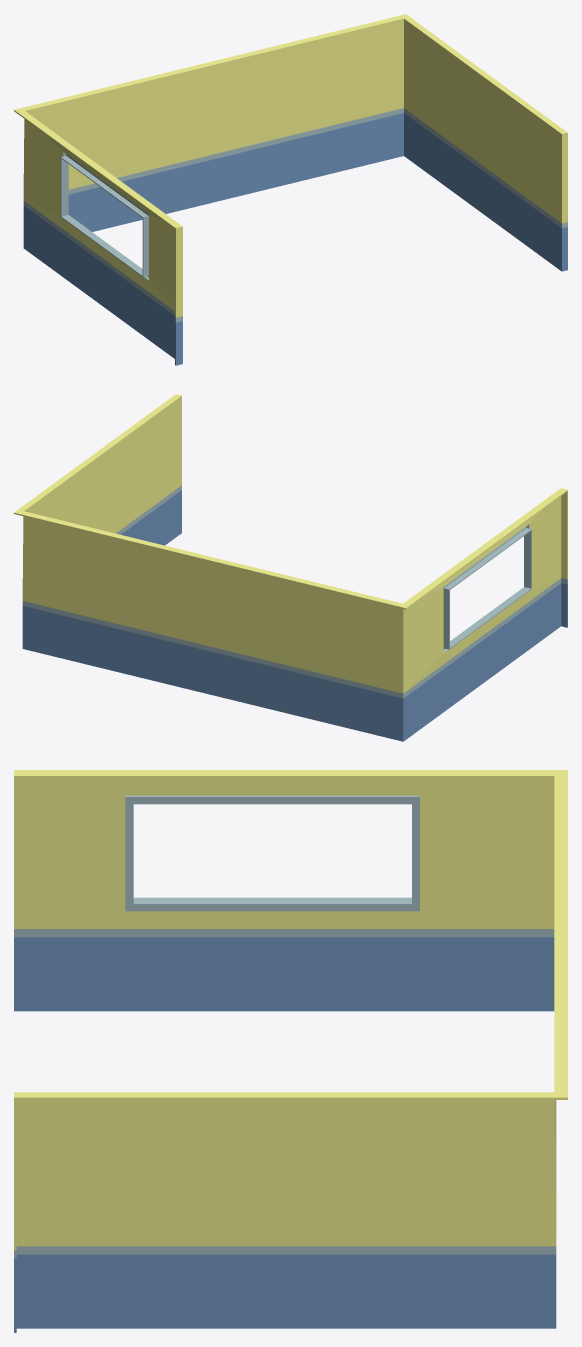
The model's file is OfficeWalls.fbx.
3 renders of one model, top to bottom at view 1: azimuth 30°, elevation 25°; view 2: azimuth 150°, elevation 25°; view 3: azimuth 270°, elevation 25°, orthographic. The views are drawn at different scales.
Parts seen in each view (by area): view 1: Walls; view 2: Walls; view 3: Walls.
Part boxes in pixels (x1,y1,x2,y2): Walls: (14, 14, 567, 365); Walls: (14, 394, 567, 741); Walls: (14, 770, 567, 1332).
Size of the model in its own units: 3000 by 1005 by 2145.
